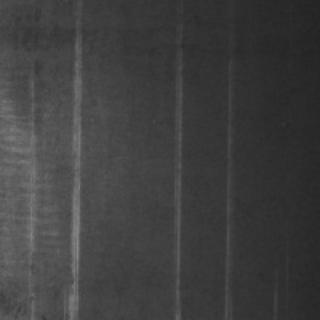scratches: (62, 18, 82, 316), (164, 26, 183, 314), (219, 55, 233, 315)
